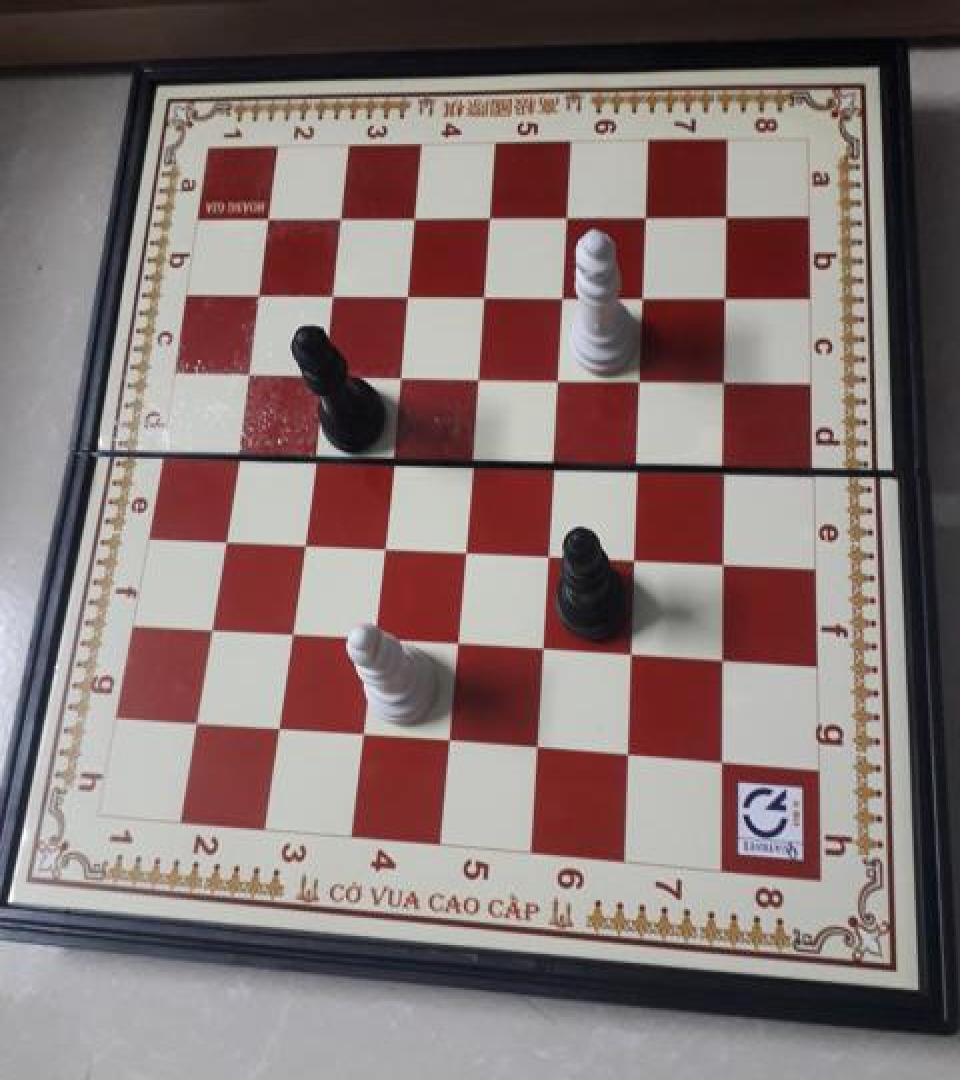xcorner: (707, 198, 737, 232), (627, 198, 657, 232), (549, 199, 579, 233), (472, 199, 502, 233), (397, 200, 427, 234), (324, 200, 354, 234), (252, 200, 282, 234), (707, 278, 737, 312), (625, 278, 655, 312), (544, 276, 574, 310), (466, 276, 496, 310), (389, 276, 419, 310), (707, 362, 737, 396), (622, 360, 652, 394), (540, 359, 570, 393), (460, 358, 490, 392), (382, 356, 412, 390), (305, 354, 335, 388), (230, 353, 260, 387), (706, 450, 736, 484), (536, 444, 566, 478), (453, 442, 483, 476), (373, 440, 403, 474), (295, 438, 325, 472), (219, 435, 249, 469), (706, 543, 736, 577), (617, 539, 647, 573), (531, 536, 561, 570), (447, 531, 477, 565), (365, 528, 395, 562), (285, 524, 315, 558), (207, 521, 237, 555), (705, 640, 735, 674), (526, 630, 556, 664), (440, 626, 470, 660), (356, 620, 386, 654), (274, 615, 304, 649), (194, 611, 224, 645), (705, 744, 735, 778), (611, 737, 641, 771), (520, 730, 550, 764), (432, 723, 462, 757), (346, 718, 376, 752), (262, 711, 292, 745), (180, 705, 210, 739), (315, 276, 345, 309), (241, 276, 271, 309), (620, 448, 650, 481), (614, 636, 644, 669)
